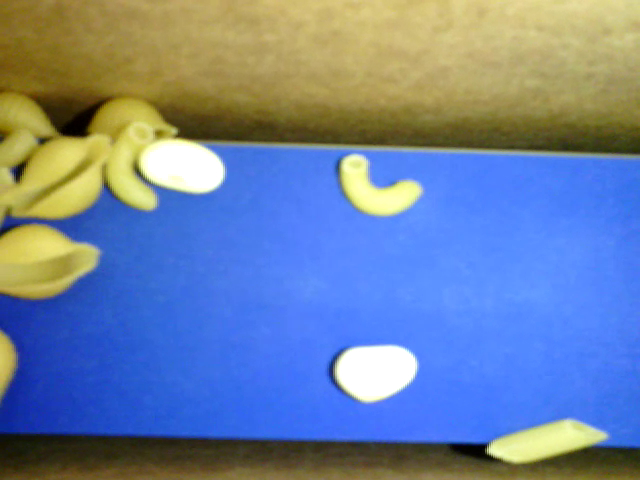elbow: (342, 153, 424, 225), (108, 118, 156, 211), (1, 127, 35, 164)
penne: (481, 418, 611, 463)
shell: (1, 131, 118, 224), (1, 226, 107, 302), (82, 97, 177, 140), (1, 85, 64, 138)
